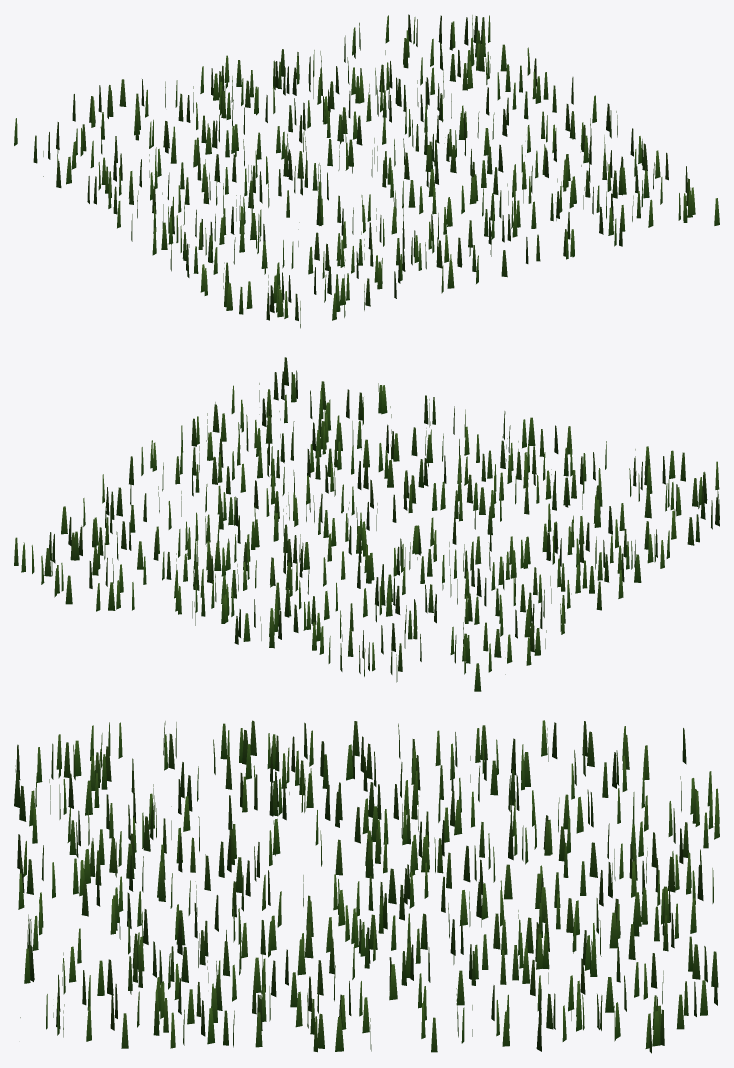
Rendered from Turf_Lawn_v2.glb.
The picture shows the model from 3 angles, top to bottom: view 1: azimuth 30°, elevation 25°; view 2: azimuth 150°, elevation 25°; view 3: azimuth 270°, elevation 25°; orthographic projection. The views are drawn at different scales.
Parts seen in each view (by area): view 1: Turf_Lawn_v2; view 2: Turf_Lawn_v2; view 3: Turf_Lawn_v2.
Boxes of the visible parts, box(x1,y1,x2,y2) form: Turf_Lawn_v2: box(14, 14, 719, 328); Turf_Lawn_v2: box(14, 357, 719, 691); Turf_Lawn_v2: box(14, 720, 719, 1053).
Bounding box in the file's own units: 1.22 × 0.0669 × 1.22.
